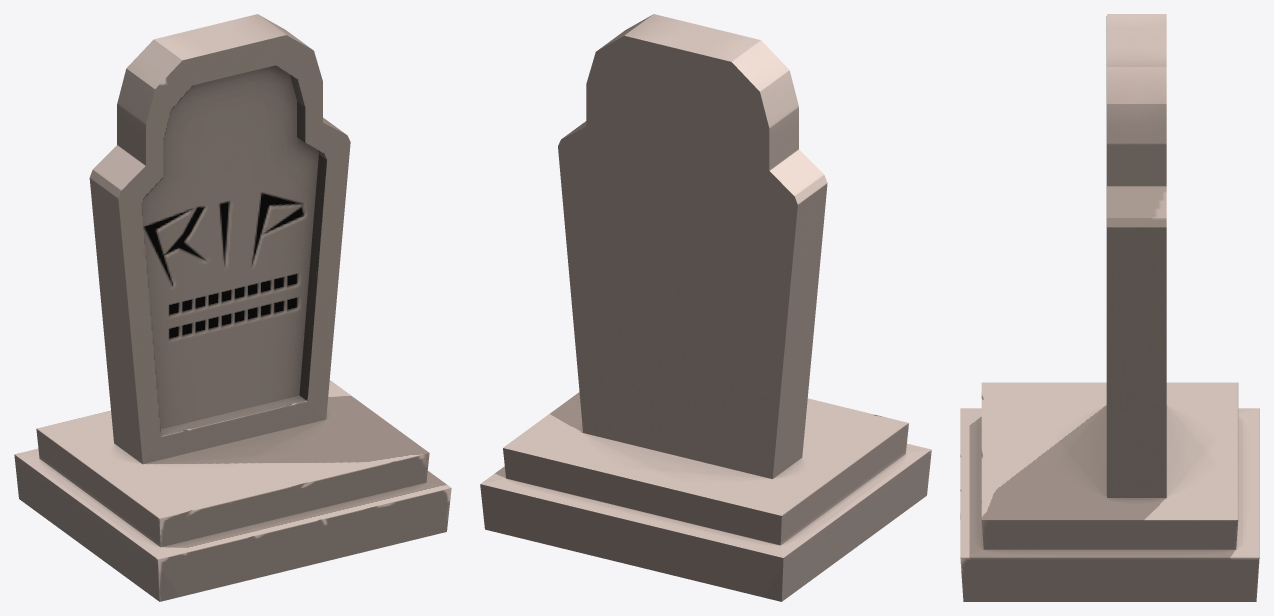
File: grave.fbx
3 views of the same model, side by side, from view 1: azimuth 30°, elevation 25°; view 2: azimuth 150°, elevation 25°; view 3: azimuth 270°, elevation 25° (orthographic). The views are drawn at different scales.
Visible parts, largest first — view 1: Empty_Mesh; view 2: Empty_Mesh; view 3: Empty_Mesh.
Boxes of the visible parts, x1=… form: Empty_Mesh: x1=14, y1=14, x2=451, y2=601; Empty_Mesh: x1=480, y1=14, x2=931, y2=601; Empty_Mesh: x1=960, y1=14, x2=1259, y2=601.
Size of the model in its own units: 82.63 by 126 by 69.97.
